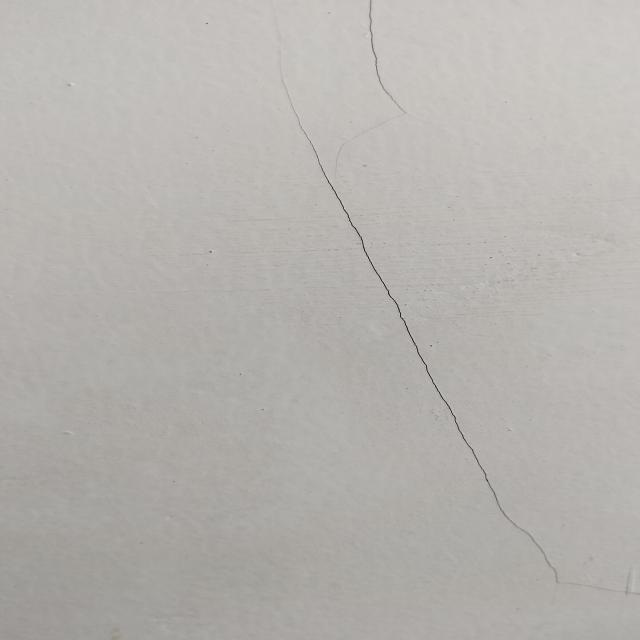Crack: (276, 75, 640, 599)
